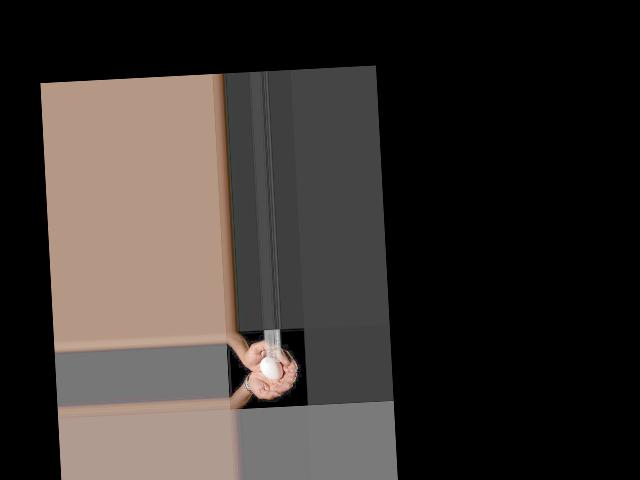egg: (260, 357, 284, 381)
